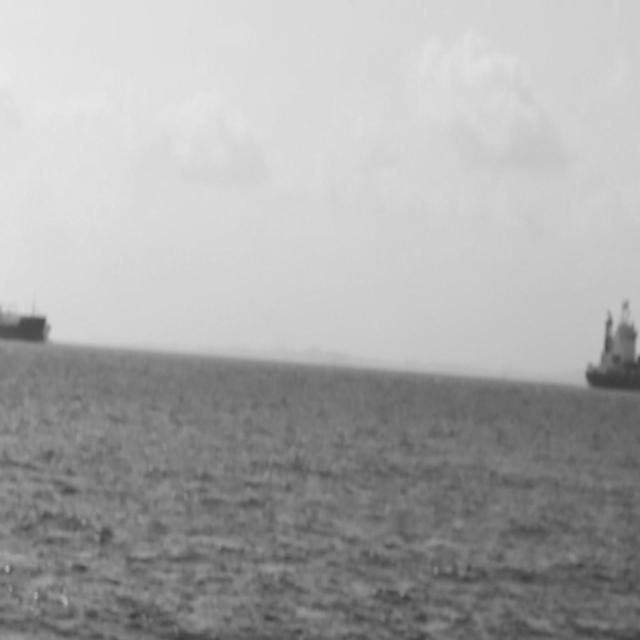ship: (582, 295, 640, 384), (1, 303, 53, 344)
